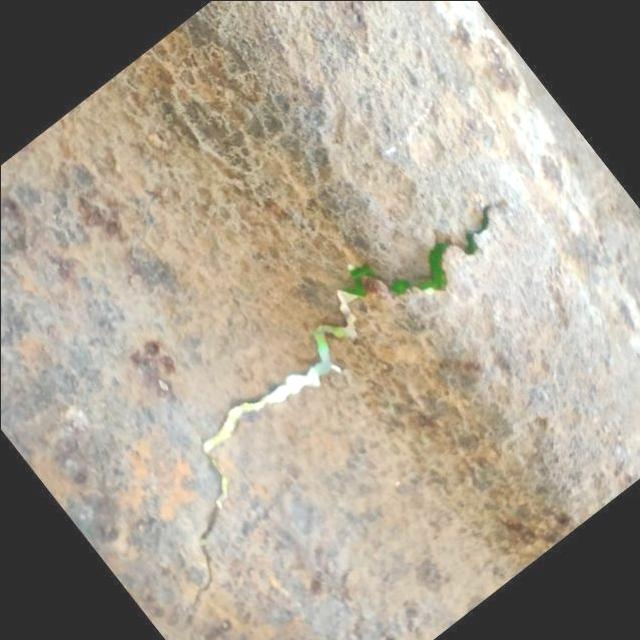defect: (180, 201, 500, 628)
